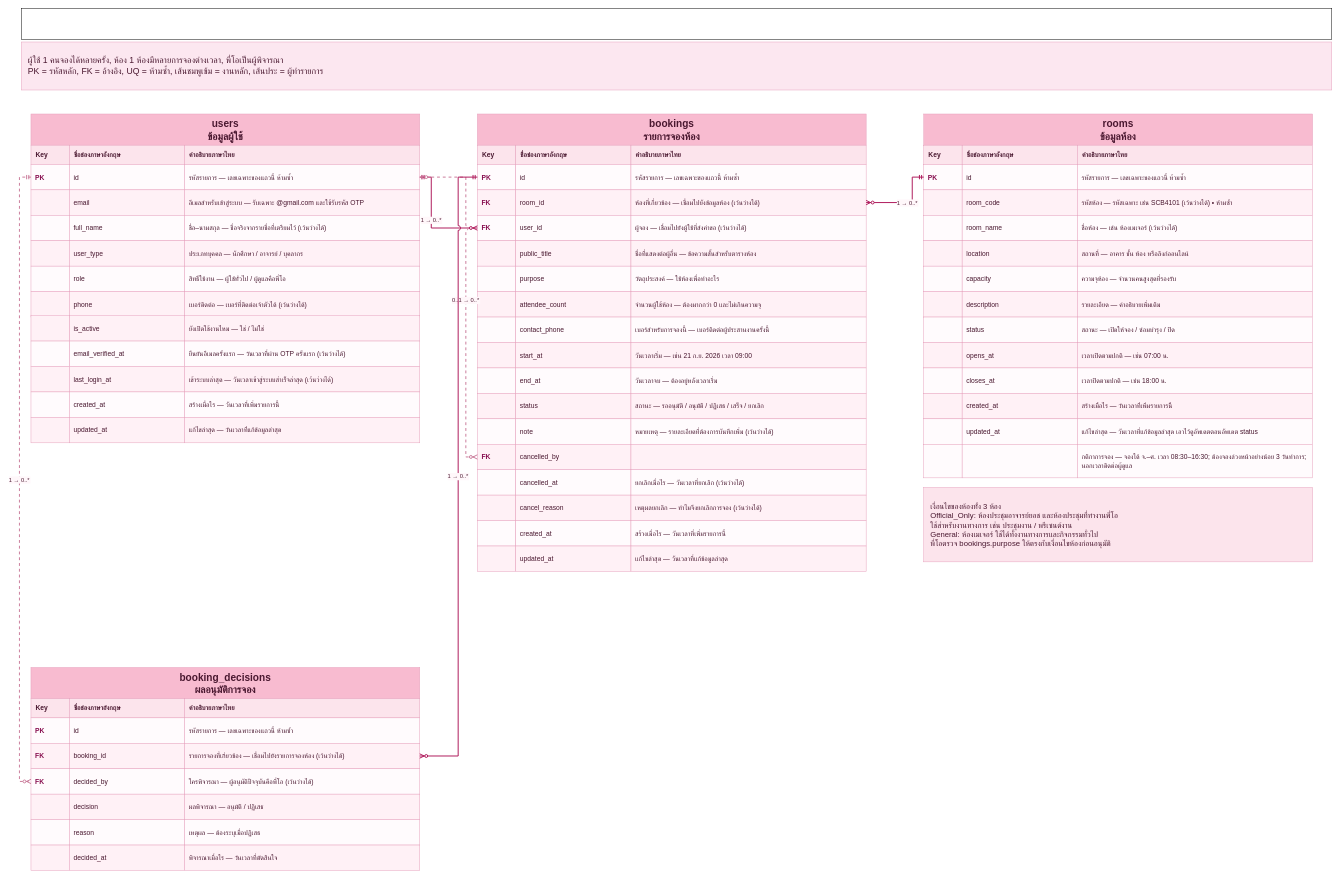
This 1340x879 diagram has some shape labels left out. The box of each missing label's shape, as (x1, y1, x2, y2) in pixels:
02 ห้องและการจอง: (21, 8, 1332, 40)
booking_policy: (962, 444, 1077, 478)
ใครยกเลิก — เชื่อมไปยังผู้ใช้ที่ยกเลิก (เว้นว่างได้): (630, 444, 866, 470)
